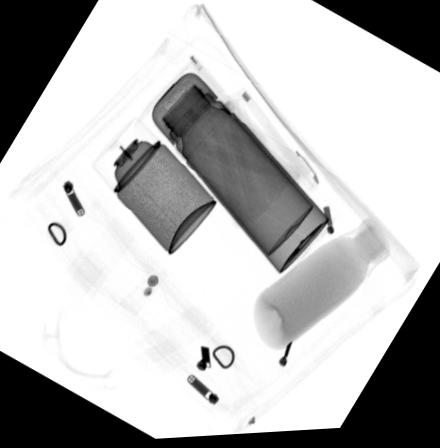Sprayer: (91, 115, 218, 259)
